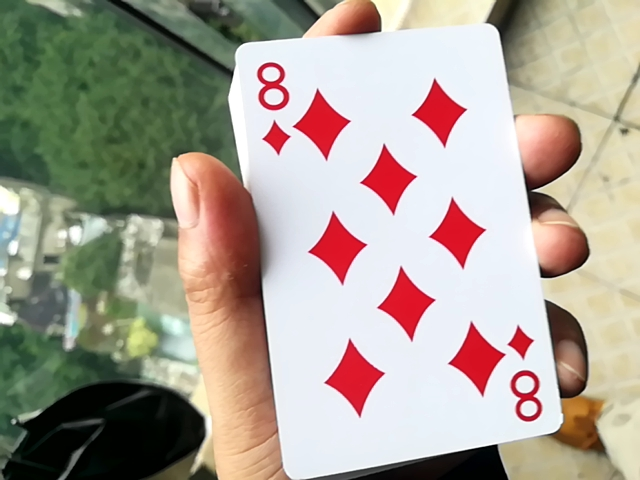fk 8: (211, 7, 551, 474)
